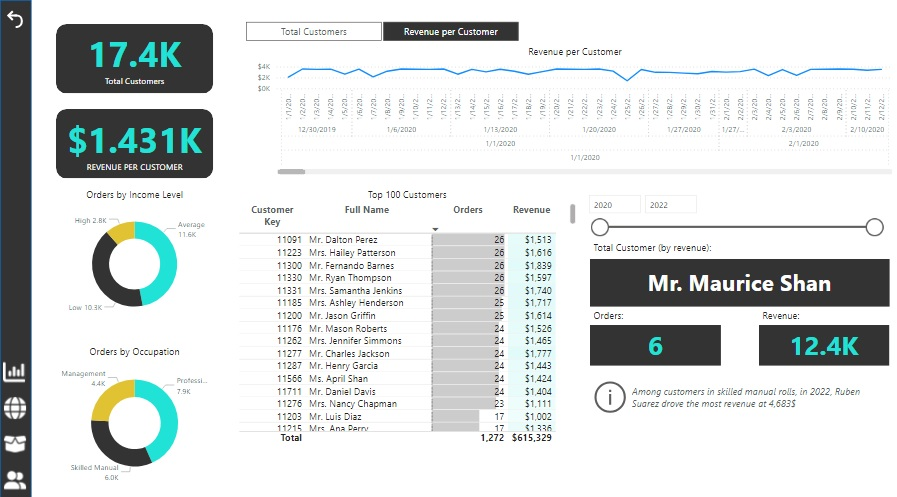

The page's visual inventory and layout, read from the dashboard file:
{"tool":"powerbi","page":{"name":"Customer Detail","canvas":[1280,720],"ordinal":3},"visuals":[{"type":"shape","box":[0,0,45,720],"z":0},{"type":"actionButton","box":[0,511.2,44.6,40.3],"z":0,"group":"g1"},{"type":"shape","box":[80.6,34.6,224.6,99.4],"z":1000},{"type":"actionButton","box":[1.4,563,44.6,40.3],"z":1000,"group":"g1"},{"type":"actionButton","box":[1.4,613.4,44.6,40.3],"z":2000,"group":"g1"},{"type":"shape","box":[80.6,155.5,224.6,99.4],"z":2000},{"type":"card","fields":{"Values":["Measure Table.Total Customers"]},"box":[72,2.9,241.9,159.8],"z":3000},{"type":"actionButton","box":[1.4,665.3,44.6,40.3],"z":3000,"group":"g1"},{"type":"card","fields":{"Values":["Measure Table.Average Revenue per Customer"]},"box":[72,125.3,241.9,159.8],"z":4000},{"type":"lineChart","fields":{"Category":["Calendar Lookup.Date Hierarchy.Start of Year","Calendar Lookup.Date Hierarchy.Start of Month","Calendar Lookup.Date Hierarchy.Start of Week","Calendar Lookup.Date Hierarchy.Date"],"Y":["Measure Table.Average Revenue per Customer"]},"box":[362.9,64.8,917.3,190.1],"z":5000},{"type":"donutChart","title":"Orders by Income Level","fields":{"Y":["Measure Table.Total Orders"],"Category":["Customer Lookup.Income Level"]},"box":[80.6,269.3,224.6,200.2],"z":6000},{"type":"donutChart","title":"Orders by Occupation","fields":{"Category":["Customer Lookup.Occupation"],"Y":["Measure Table.Total Orders"]},"box":[80.6,492.5,224.6,205.9],"z":7000},{"type":"tableEx","title":"Top 100 Customers","fields":{"Values":["Customer Lookup.CustomerKey","Customer Lookup.Full Name","Measure Table.Total Orders","Measure Table.Total Revenue"]},"box":[335.5,269.3,492.5,370.1],"z":8000},{"type":"card","fields":{"Values":["Customer Lookup.Full Name (Customer Details)"]},"box":[842.4,370.1,427.7,67.7],"z":9000},{"type":"textbox","box":[842.4,339.8,190.1,30.2],"z":10000},{"type":"textbox","box":[842.4,437.8,116.6,28.8],"z":11000},{"type":"textbox","box":[1084.3,437.8,135.4,28.8],"z":12000},{"type":"card","fields":{"Values":["Measure Table.Total Orders (Customer Details)"]},"box":[842.4,463.7,187.2,57.6],"z":13000},{"type":"card","fields":{"Values":["Measure Table.Total Revenue (Customer Details)"]},"box":[1084.3,463.7,185.8,57.6],"z":14000},{"type":"slicer","fields":{"Values":["Calendar Lookup.Year"]},"box":[828,269.3,442.1,70.6],"z":15000},{"type":"actionButton","box":[842.4,538.6,427.7,57.6],"z":16000},{"type":"actionButton","box":[4.3,10.1,44.6,34.6],"z":17000},{"type":"group","id":"g1","title":"Navigation Buttons","box":[0,511.2,46.1,194.4],"z":18000},{"type":"slicer","fields":{"Values":["Customer Metric Selection.Customer Metric Selection"]},"box":[325.4,24.5,439.2,40.3],"z":18501}]}

Visuals, with their boxes on the page's 1280x720 design canvas (x1, y1, x2, y2). These are canvas units, not pixel positions in the 897x497 screenshot, which may show the page scaled, cropped or inside an application window:
shape: (0,0,45,720)
actionButton: (0,511,45,552)
shape: (81,35,305,134)
actionButton: (1,563,46,603)
actionButton: (1,613,46,654)
shape: (81,156,305,255)
card - Measure Table.Total Customers: (72,3,314,163)
actionButton: (1,665,46,706)
card - Measure Table.Average Revenue per Customer: (72,125,314,285)
lineChart - Calendar Lookup.Date Hierarchy.Start of Year x Calendar Lookup.Date Hierarchy.Start of Month: (363,65,1280,255)
"Orders by Income Level" donutChart: (81,269,305,470)
"Orders by Occupation" donutChart: (81,492,305,698)
"Top 100 Customers" tableEx: (336,269,828,639)
card - Customer Lookup.Full Name (Customer Details): (842,370,1270,438)
textbox: (842,340,1032,370)
textbox: (842,438,959,467)
textbox: (1084,438,1220,467)
card - Measure Table.Total Orders (Customer Details): (842,464,1030,521)
card - Measure Table.Total Revenue (Customer Details): (1084,464,1270,521)
slicer - Calendar Lookup.Year: (828,269,1270,340)
actionButton: (842,539,1270,596)
actionButton: (4,10,49,45)
"Navigation Buttons" group: (0,511,46,706)
slicer - Customer Metric Selection.Customer Metric Selection: (325,24,765,65)
